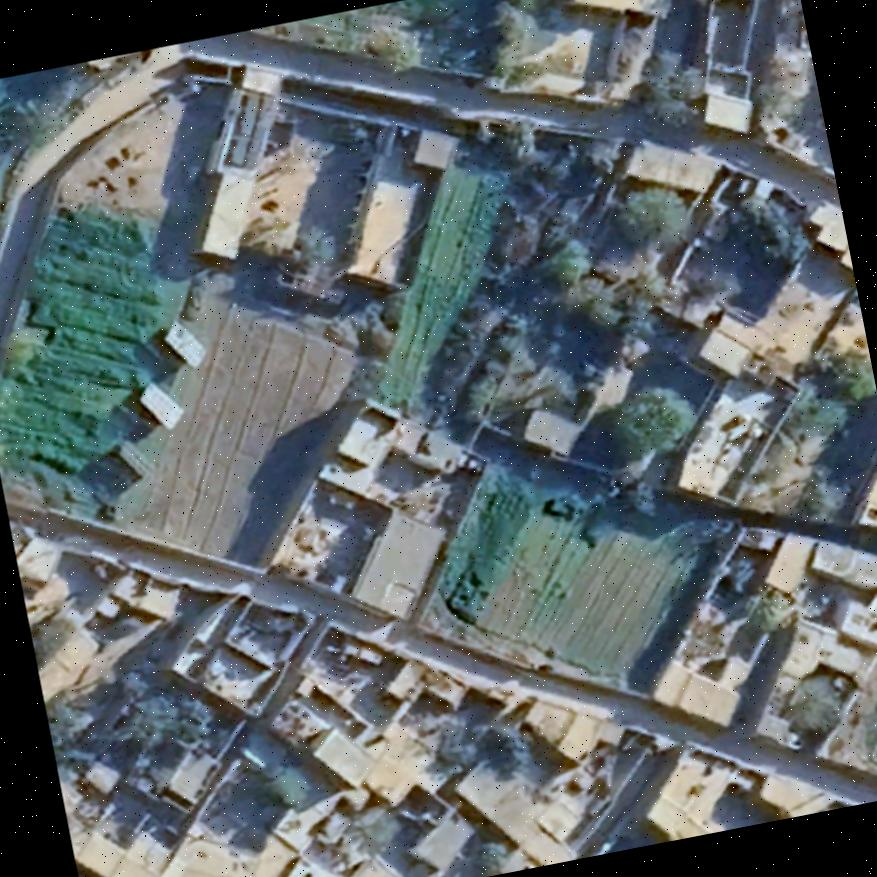Solarpanel: (162, 317, 206, 370), (138, 380, 184, 429), (114, 436, 156, 482)
